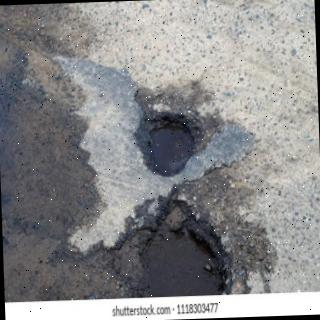pothole: (113, 199, 229, 299), (137, 110, 204, 178)
